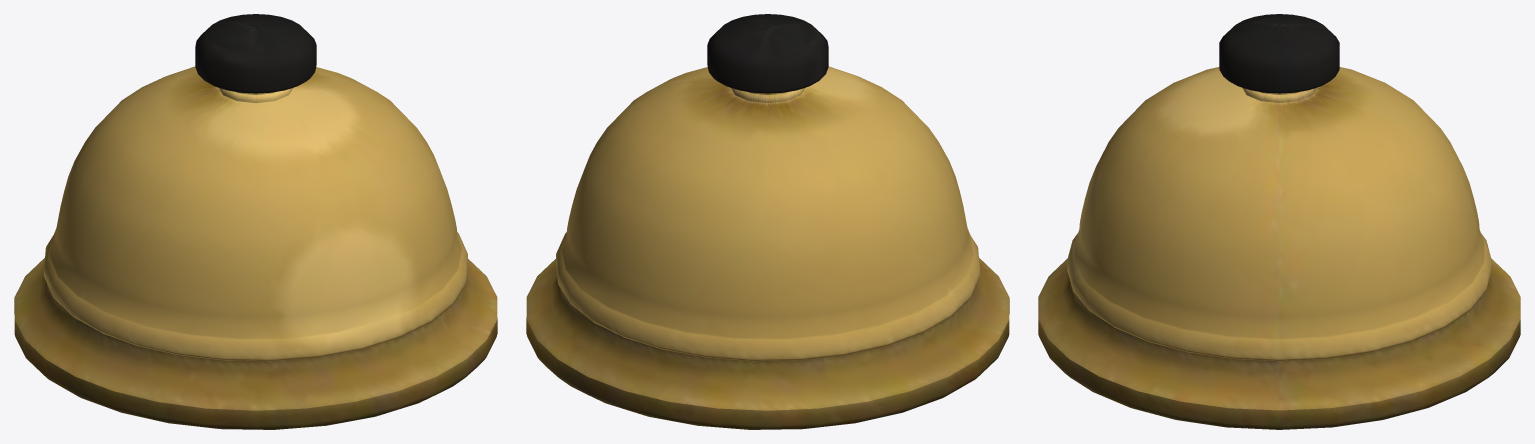
Rendered from service-bell.glb.
3 views of the same model, side by side, from view 1: azimuth 30°, elevation 25°; view 2: azimuth 150°, elevation 25°; view 3: azimuth 270°, elevation 25° (orthographic).
Parts seen in each view (by area): view 1: bell_body; view 2: bell_body; view 3: bell_body.
Boxes of the visible parts, x1=… form: bell_body: x1=14, y1=14, x2=497, y2=429; bell_body: x1=526, y1=14, x2=1009, y2=429; bell_body: x1=1038, y1=14, x2=1520, y2=429.
Bounding box in the file's own units: 0.096 × 0.0661 × 0.0955.
1 material, 1 textured.
